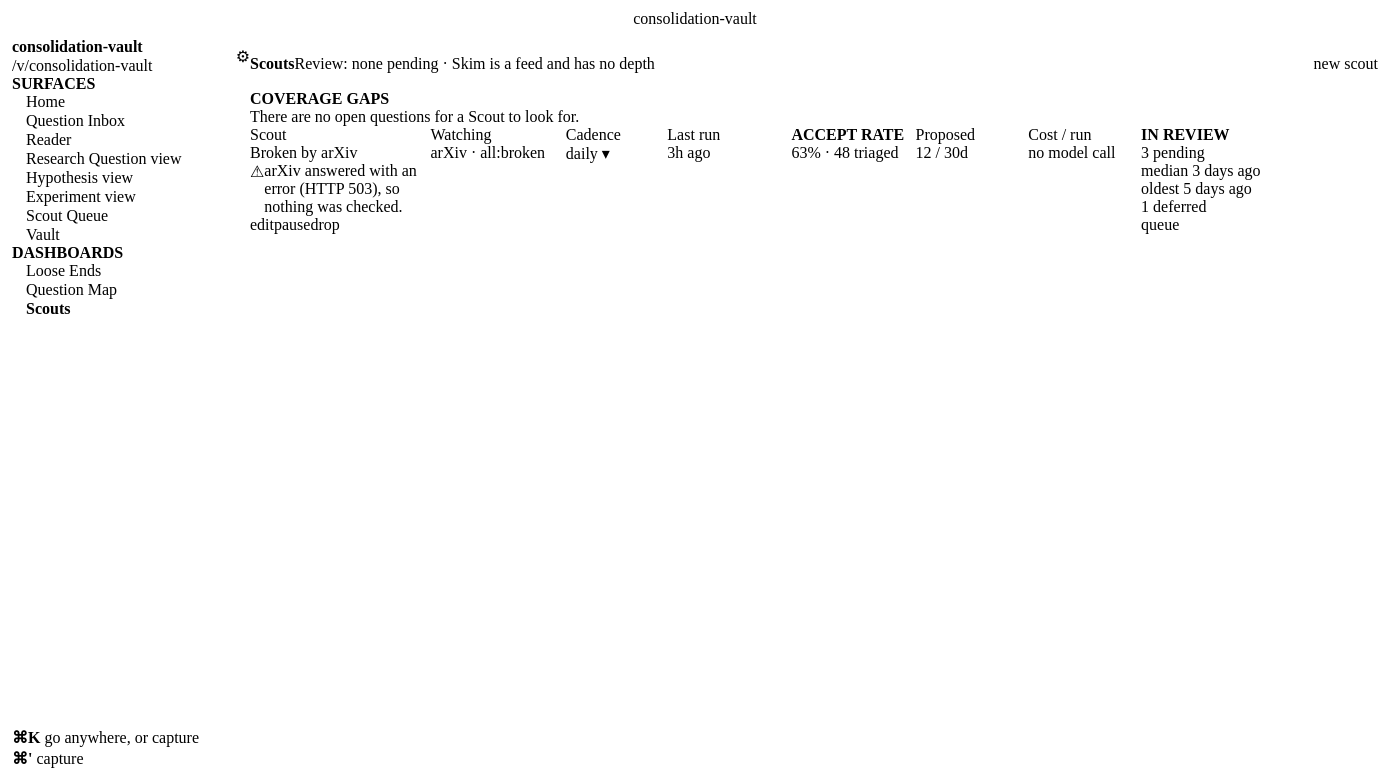
opening a row › says what the newest run asked, as it recorded it, when the row is open (#802)
Expected: the text "Last run asked" is not shown
Click the text "Broken by arXiv" at [304, 152], box x1=250 y1=144 x2=358 y2=161
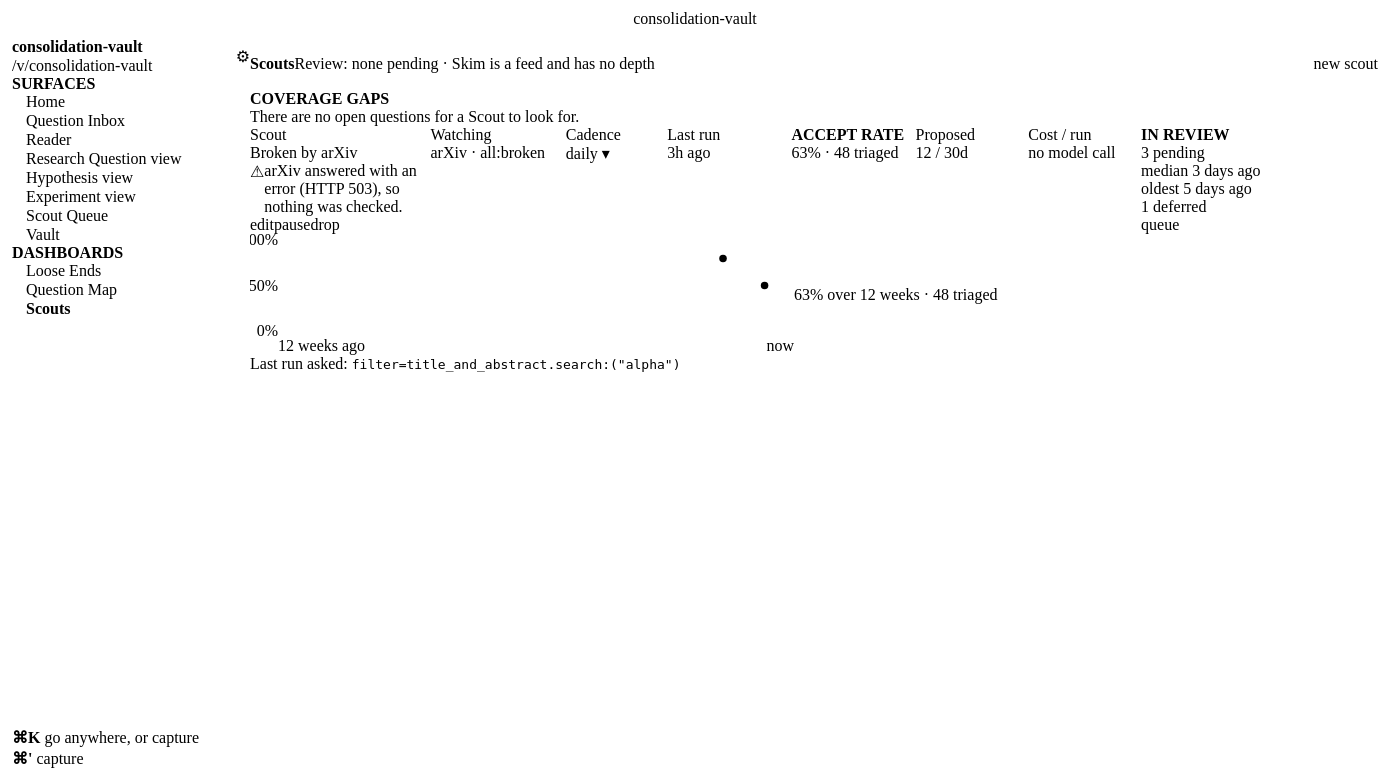
Expected: the text "Last run asked: filter=title_and_abstract.search:(\"alpha\")" is shown, x1=250 y1=355 x2=680 y2=372
